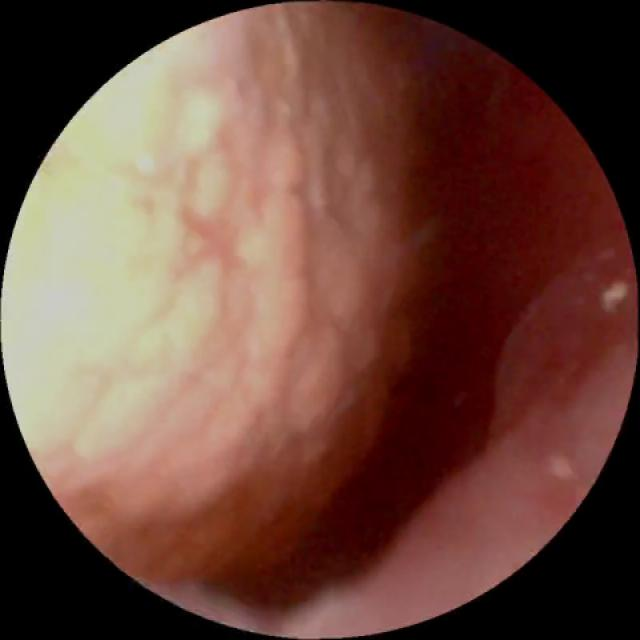stone: (14, 5, 415, 585)
tissue: (202, 31, 625, 627)
